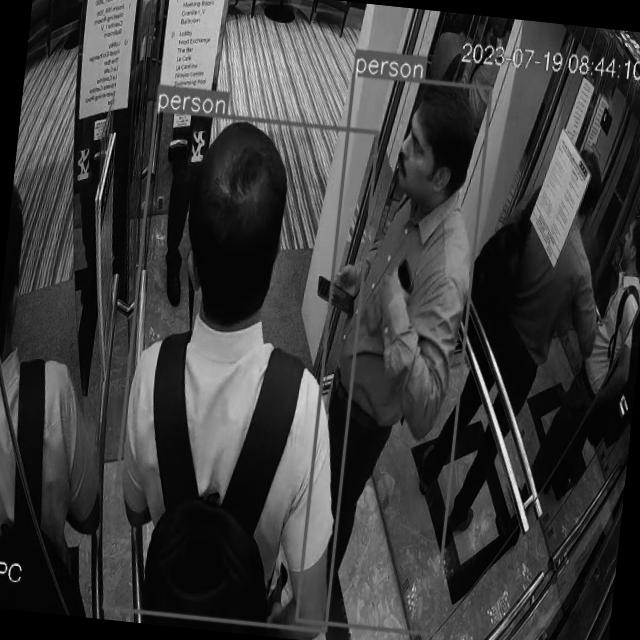person: (102, 115, 378, 630), (298, 79, 494, 638), (0, 169, 143, 589)
